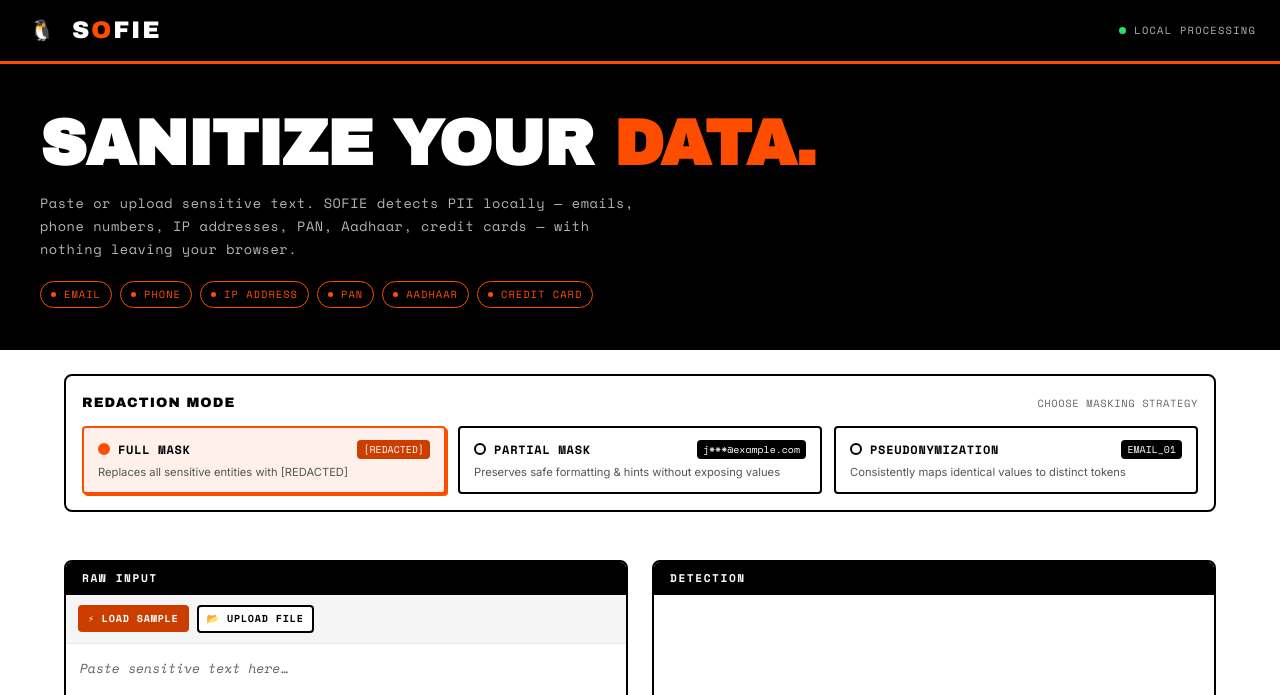
Test case: SOFIE Phase 2 UI › 18. Switching redaction mode to Pseudonymization displays consistent tokens
What coordinates should you click on to do the following:
click the button "⚡ LOAD SAMPLE"
I would click on:
 (133, 619)
Its box is x1=78 y1=605 x2=189 y2=632.
Wait 400 ms
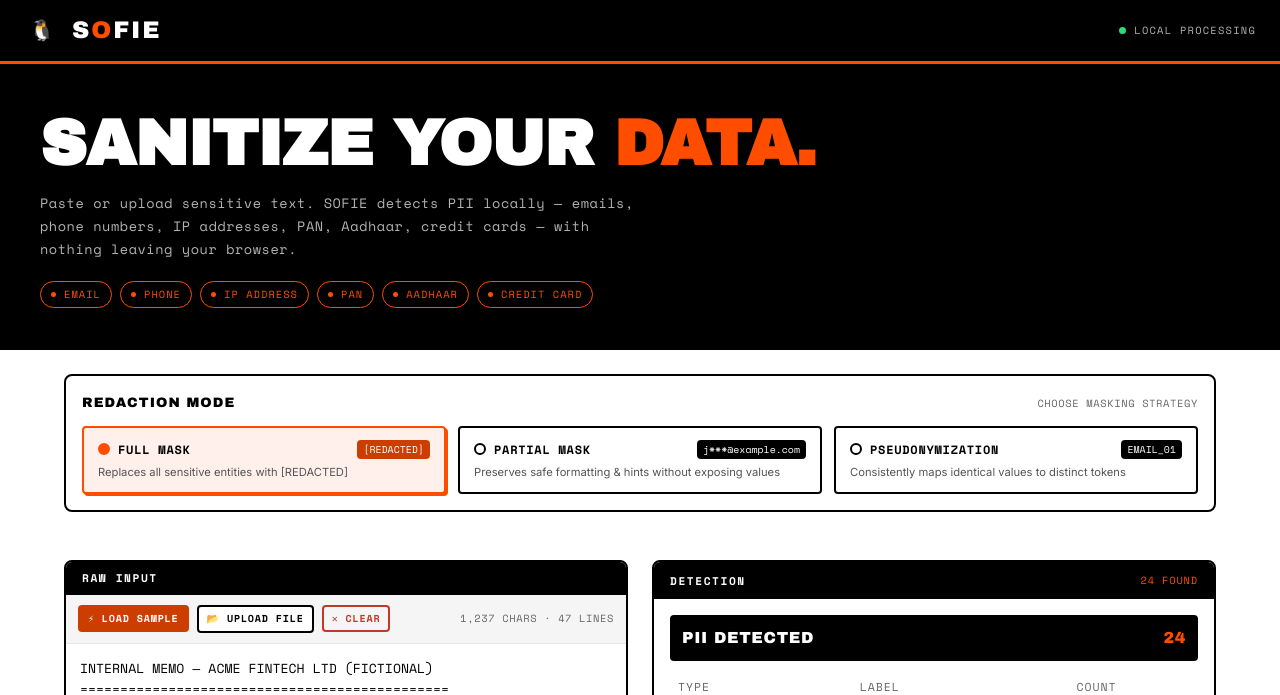
Note: Switch to Pseudonymization
What coordinates should you click on to do the following:
click the radio button with test id "mode-btn-pseudonymization"
I would click on:
 (935, 449)
Its box is x1=834 y1=426 x2=1198 y2=494.
(page scrolled)
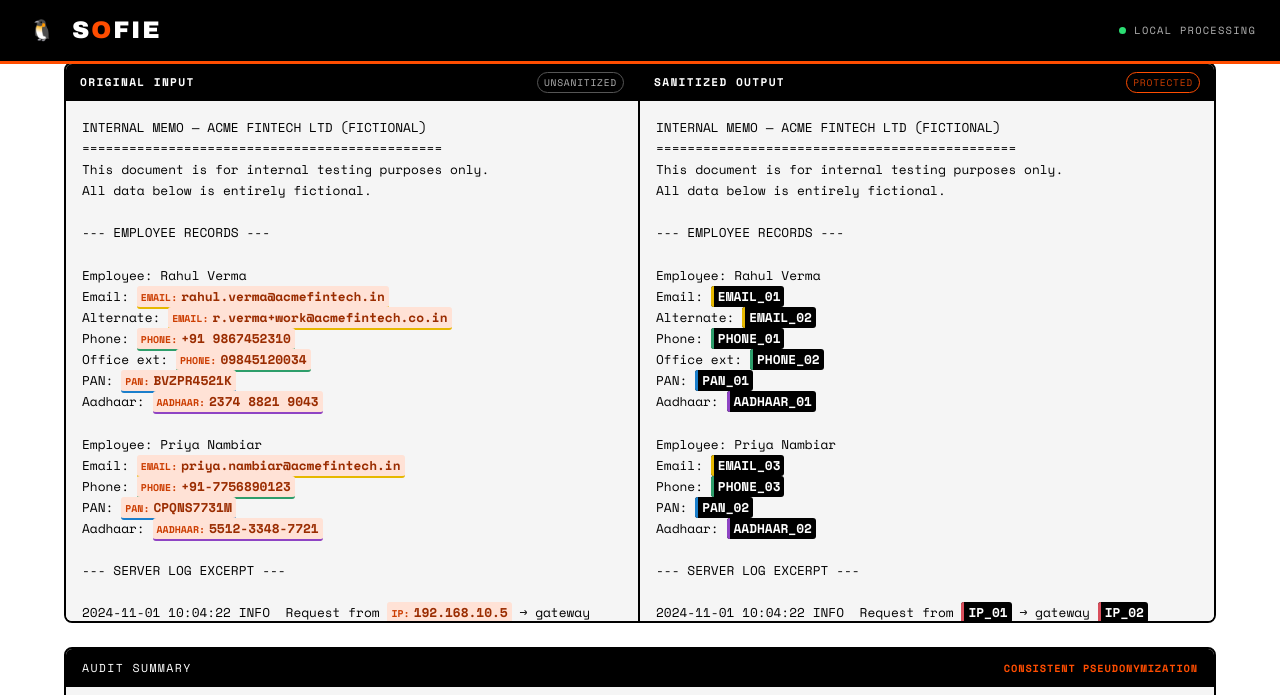
Result: the element with test id "diff-pane-sanitized" shows "EMAIL_01" at x1=718 y1=287 x2=780 y2=306
Result: the element with test id "diff-pane-sanitized" shows "PHONE_01" at x1=718 y1=329 x2=780 y2=348
